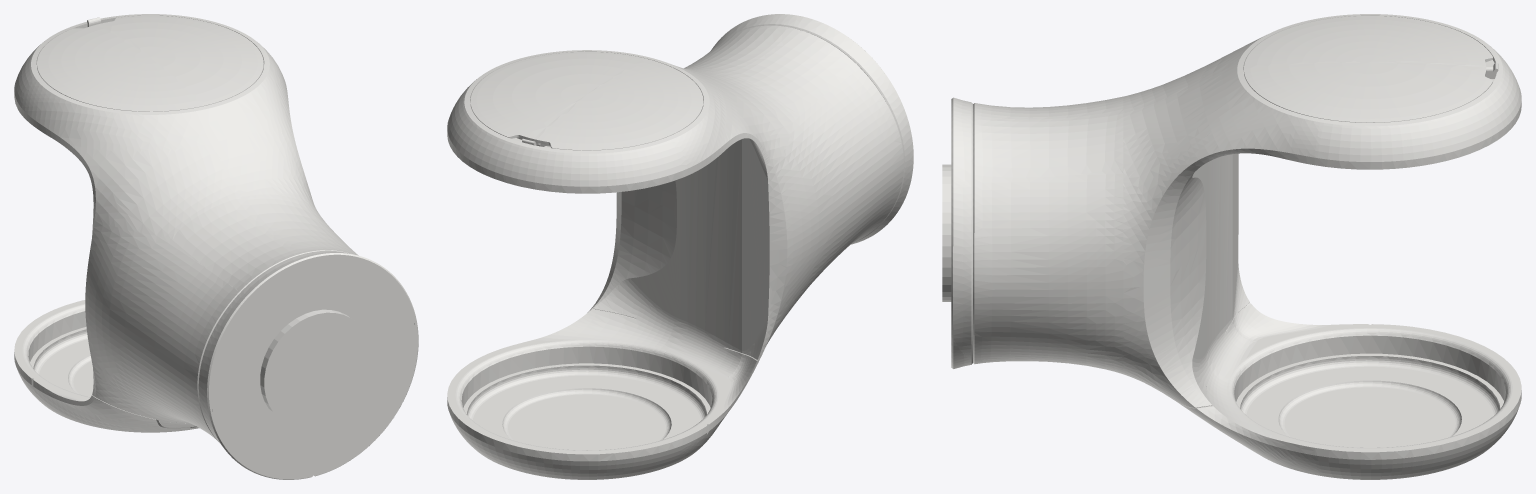
The model's file is AR5_5_08R_W4C4A6_link4_vis.obj.
The picture shows the model from 3 angles, left to right: view 1: azimuth 30°, elevation 25°; view 2: azimuth 150°, elevation 25°; view 3: azimuth 270°, elevation 25°; orthographic projection. The views are drawn at different scales.
Parts seen in each view (by area): view 1: AR5_5_08R_W4C4A6_link4; view 2: AR5_5_08R_W4C4A6_link4; view 3: AR5_5_08R_W4C4A6_link4.
Part boxes in pixels (bbox=[...]): AR5_5_08R_W4C4A6_link4: bbox=[14, 14, 418, 479]; AR5_5_08R_W4C4A6_link4: bbox=[447, 14, 913, 479]; AR5_5_08R_W4C4A6_link4: bbox=[942, 14, 1521, 479].
Size of the model in its own units: 0.1058 by 0.1335 by 0.1896.
1 material, 1 textured.
